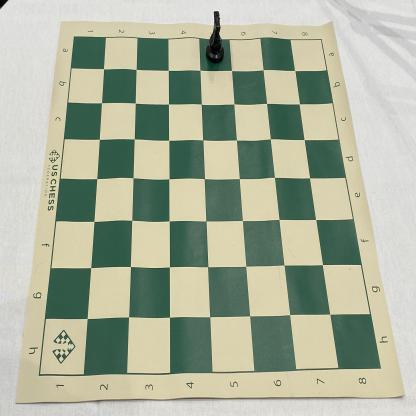black-knight: (206, 11, 224, 64)
